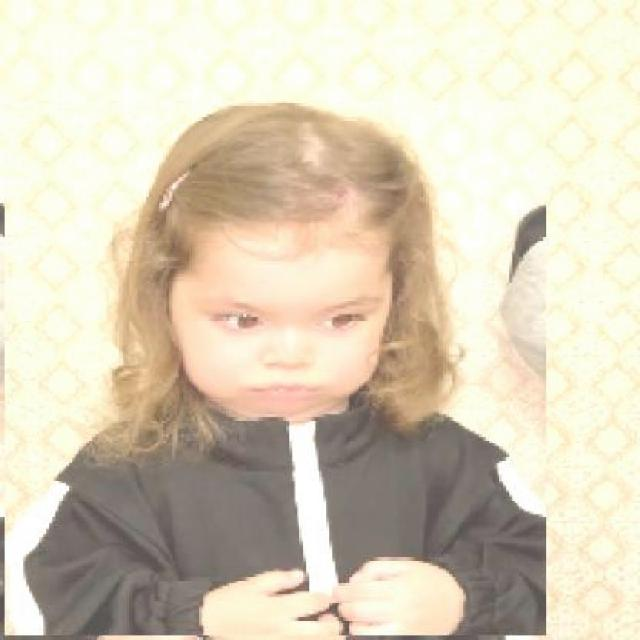child: (3, 100, 546, 637)
